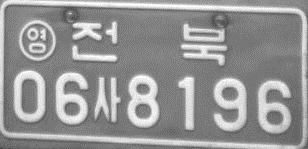0: (12, 69, 47, 123)
1: (169, 75, 204, 131)
6: (257, 78, 292, 134), (53, 71, 88, 125)
8: (126, 72, 160, 128)
9: (212, 77, 248, 133)
사: (93, 76, 120, 124)
영: (18, 18, 56, 61)
전북_D: (70, 20, 227, 66)
